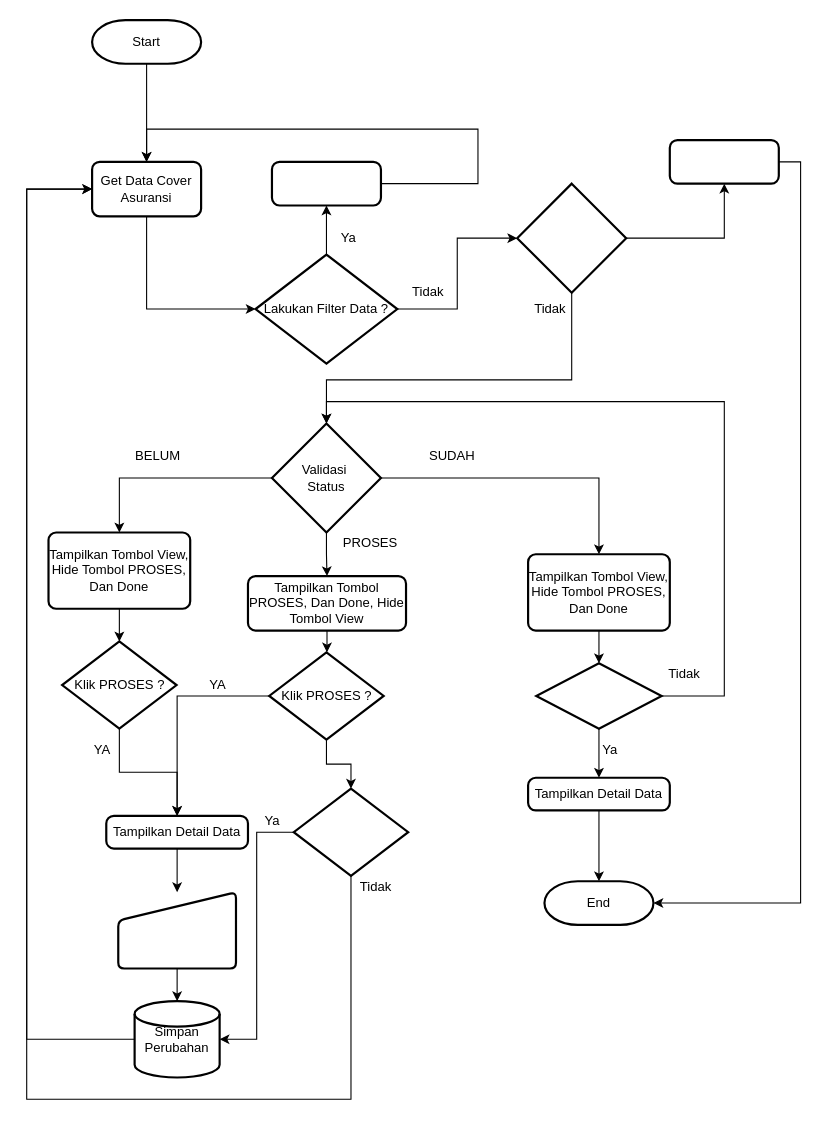
This 828x1127 diagram has some shape labels left out. Each missing label, with the centre of its shape:
Change Filter / Search Data: (x=326, y=183)
EXPORT DATA: (x=723, y=161)
Export Data ?: (x=571, y=237)
Input Detail Asuransi: (x=177, y=930)
Klik Done ?: (x=350, y=831)
Klik View Data ?: (x=598, y=695)
